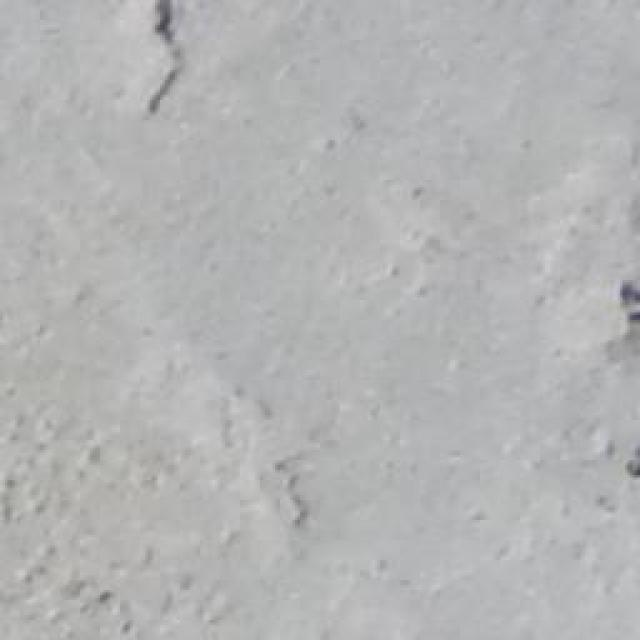concrete-crack: (142, 0, 189, 120)
